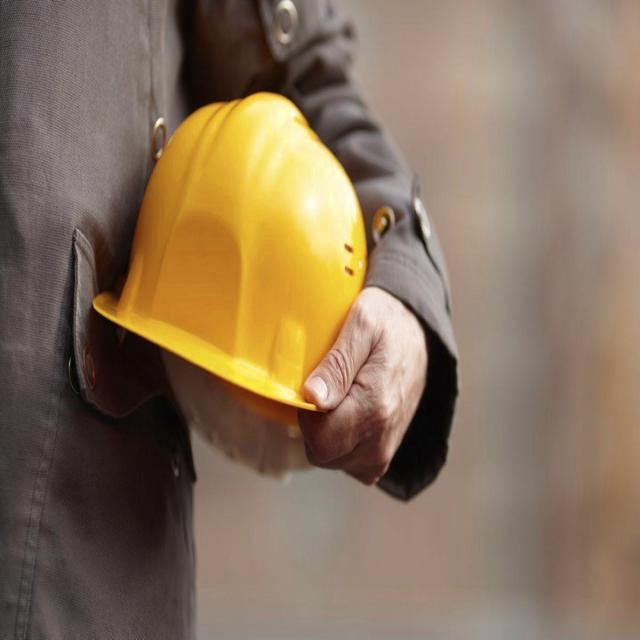hand_noglove: (297, 274, 464, 502)
head_helmet: (93, 90, 368, 412)
